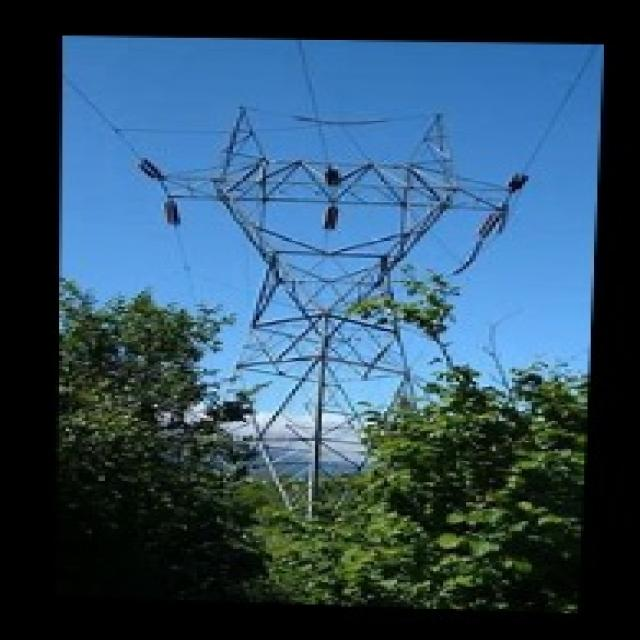utility poles: (342, 273, 524, 438), (172, 294, 286, 452)
